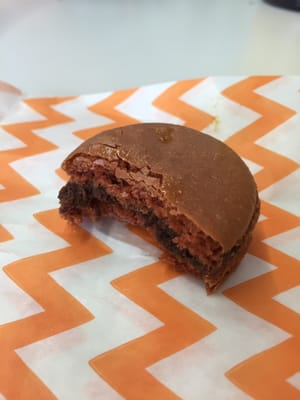soup: (55, 122, 261, 294)
